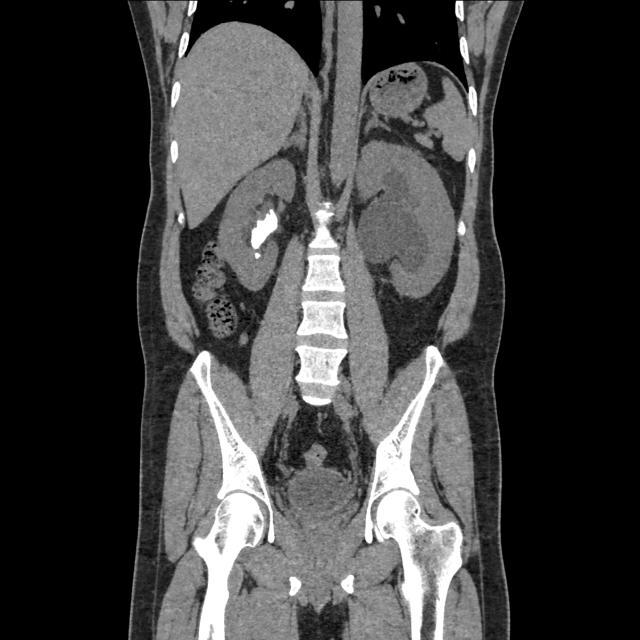kidneystone: (251, 208, 278, 249), (254, 252, 261, 258)
